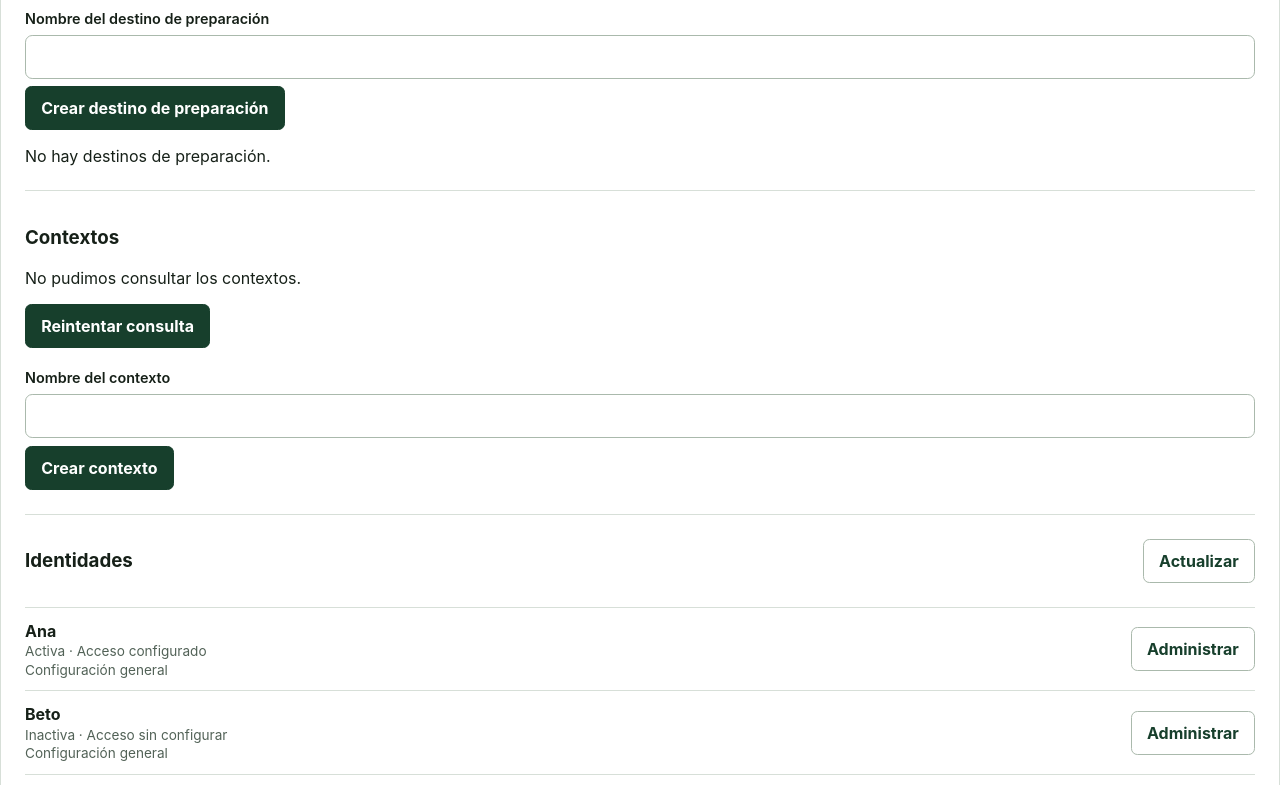
GeneralConfigurationPanel › owns the Identity read and renders only the permitted administrative fields
The image size is (1280, 785).
(page scrolled)
expect the text "Ana" is shown: met, box [25,621,56,641]
expect the text "Beto" is shown: met, box [25,704,61,724]
Click the button with aria-label "Administrar Ana". click: [1193, 649]
box: [1131,627,1255,671]
(page scrolled)
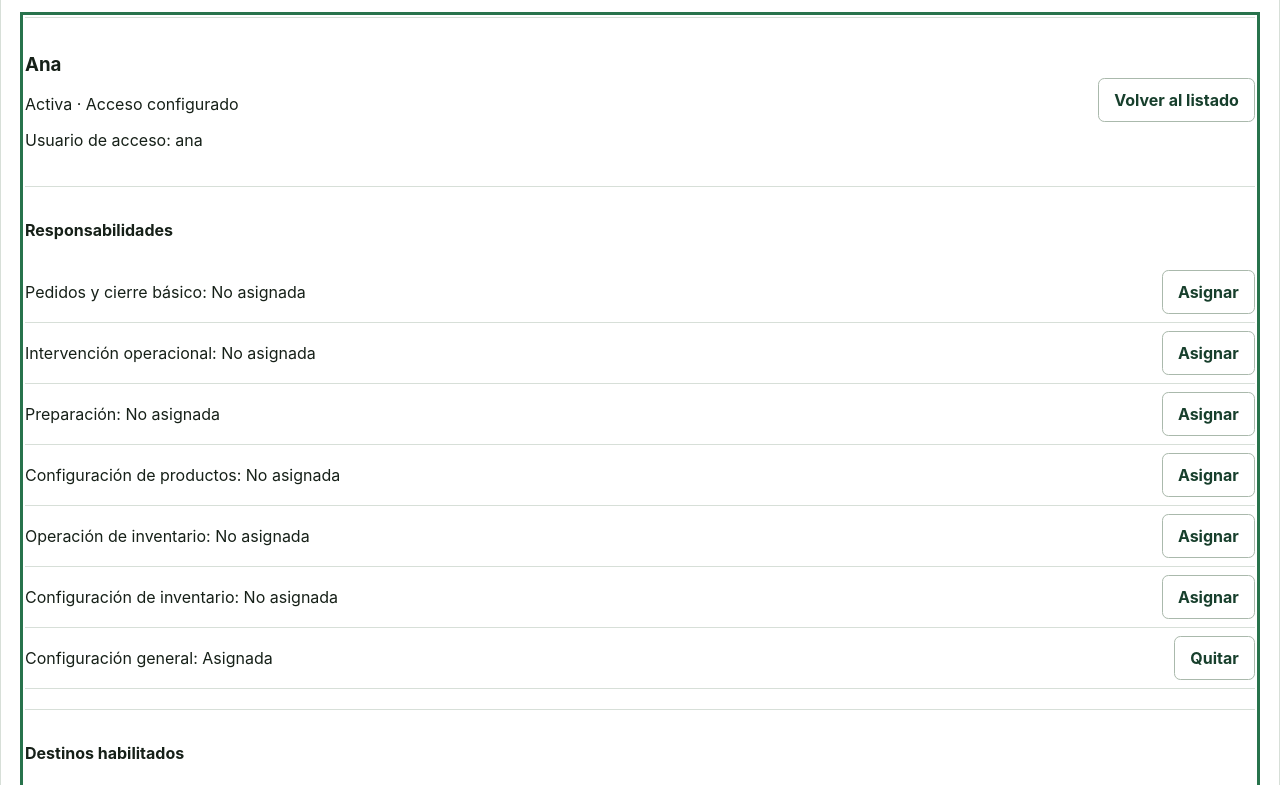
expect the text "Usuario de acceso: ana" is shown: met, box [25,130,203,150]
